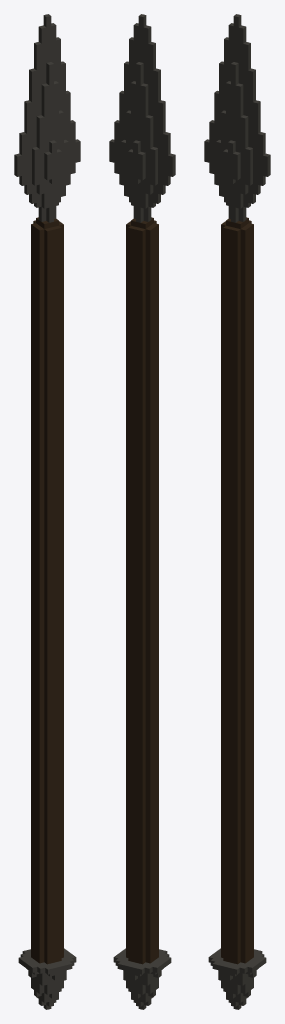
File: ShortSpear.obj
3 renders of one model, left to right at view 1: azimuth 30°, elevation 25°; view 2: azimuth 150°, elevation 25°; view 3: azimuth 330°, elevation 25°, orthographic.
Bounding box in the file's own units: 1.3 × 19.5 × 0.9.
Materials: 1 (1 with a texture image).
